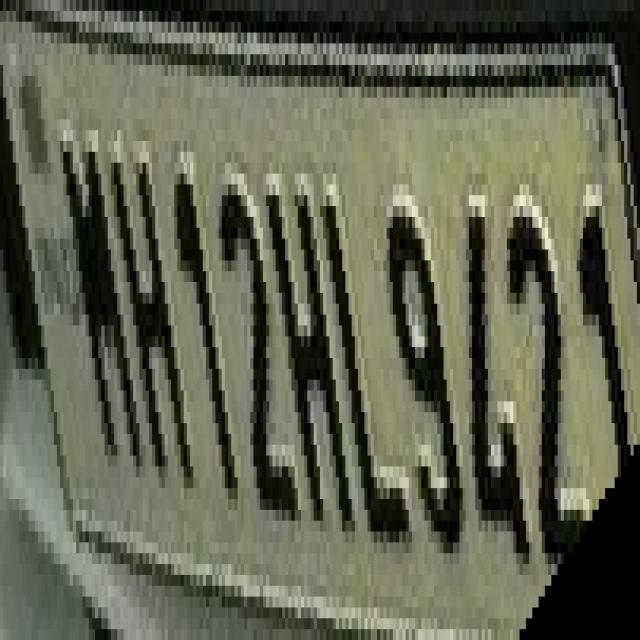license_plate: (25, 11, 640, 618)
